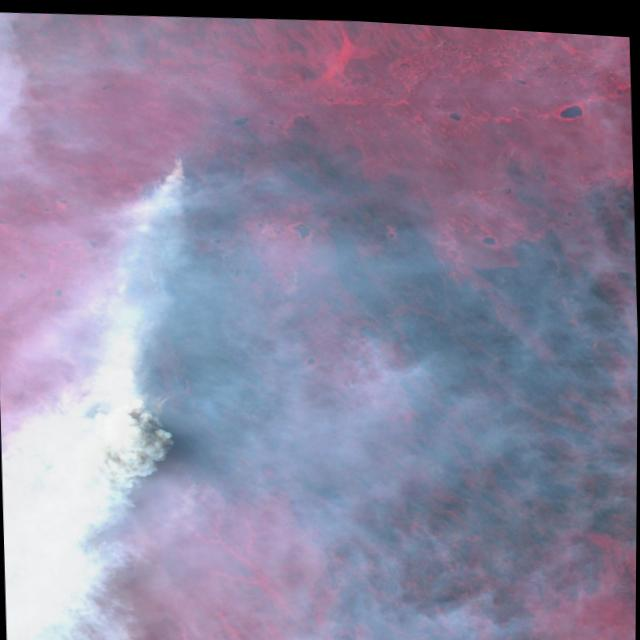fire: (153, 146, 190, 207)
